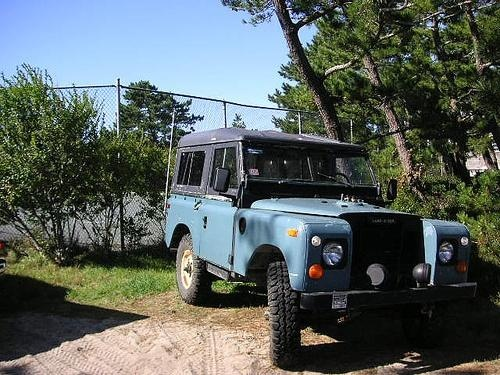car: (164, 126, 479, 367)
